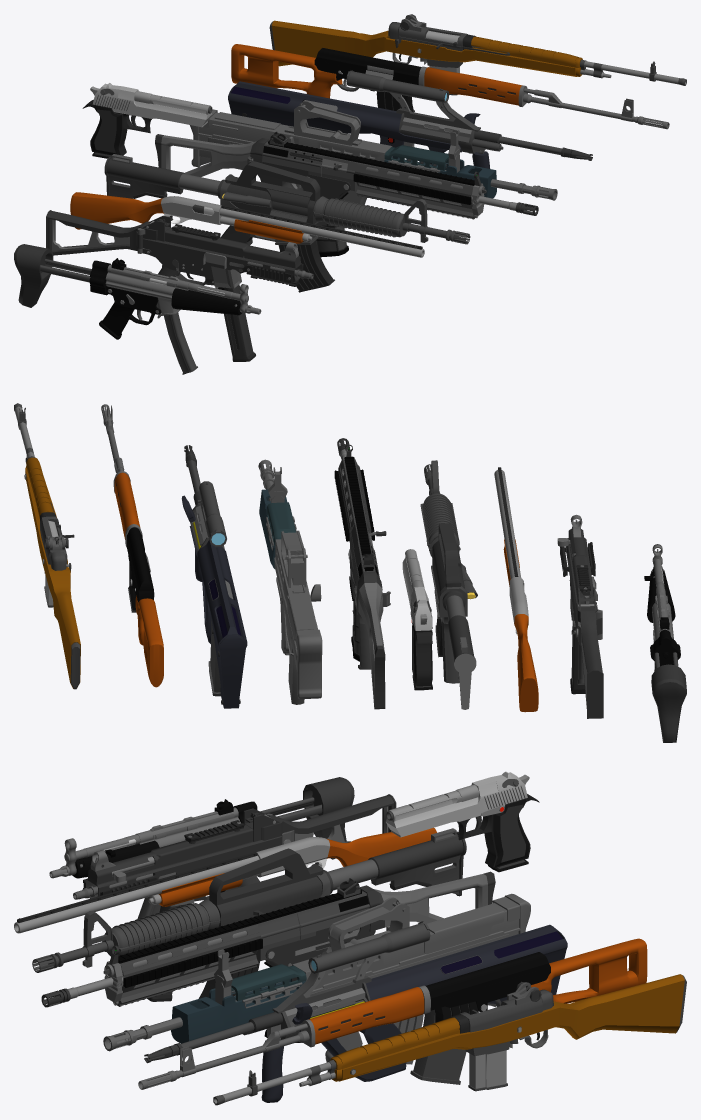
File: weapon_pack_of_10100_part_2.glb
3 views of the same model, one above another, from view 1: azimuth 30°, elevation 25°; view 2: azimuth 150°, elevation 25°; view 3: azimuth 270°, elevation 25° (orthographic). The views are drawn at different scales.
Visible parts, largest first — view 1: Colt_M16A2, SIG556, STEYR_AUG_A3, UMP45, M14_Classic, HK_MP5, SVD_Drogunov, L85A2, Remington870, Desert_Eagle; view 2: L85A2, STEYR_AUG_A3, SIG556, Colt_M16A2, UMP45, M14_Classic, SVD_Drogunov, HK_MP5, Remington870, Desert_Eagle; view 3: M14_Classic, SIG556, L85A2, STEYR_AUG_A3, Colt_M16A2, SVD_Drogunov, UMP45, Remington870, Desert_Eagle, HK_MP5.
Boxes of the visible parts, x1=… form: Colt_M16A2: x1=104, y1=154, x2=470, y2=292; SIG556: x1=155, y1=131, x2=538, y2=257; STEYR_AUG_A3: x1=228, y1=70, x2=592, y2=168; UMP45: x1=46, y1=210, x2=313, y2=361; M14_Classic: x1=269, y1=14, x2=686, y2=95; HK_MP5: x1=14, y1=244, x2=261, y2=374; SVD_Drogunov: x1=231, y1=44, x2=669, y2=129; L85A2: x1=190, y1=101, x2=557, y2=204; Remington870: x1=70, y1=192, x2=424, y2=257; Desert_Eagle: x1=82, y1=83, x2=212, y2=158; L85A2: x1=258, y1=459, x2=322, y2=704; STEYR_AUG_A3: x1=181, y1=445, x2=247, y2=708; SIG556: x1=334, y1=438, x2=390, y2=709; Colt_M16A2: x1=420, y1=460, x2=477, y2=709; UMP45: x1=557, y1=514, x2=603, y2=718; M14_Classic: x1=14, y1=403, x2=80, y2=689; SVD_Drogunov: x1=101, y1=404, x2=163, y2=687; HK_MP5: x1=644, y1=544, x2=686, y2=742; Remington870: x1=494, y1=467, x2=538, y2=712; Desert_Eagle: x1=402, y1=549, x2=432, y2=690; M14_Classic: x1=213, y1=974, x2=686, y2=1105; SIG556: x1=41, y1=871, x2=495, y2=1042; L85A2: x1=103, y1=893, x2=530, y2=1064; STEYR_AUG_A3: x1=144, y1=921, x2=567, y2=1102; Colt_M16A2: x1=32, y1=828, x2=466, y2=998; SVD_Drogunov: x1=138, y1=938, x2=647, y2=1089; UMP45: x1=73, y1=794, x2=396, y2=1001; Remington870: x1=14, y1=827, x2=436, y2=933; Desert_Eagle: x1=385, y1=771, x2=539, y2=872; HK_MP5: x1=49, y1=777, x2=354, y2=919.
Size of the model in its own units: 69.3 by 18.7 by 50.02.
2 materials, 2 textured.
